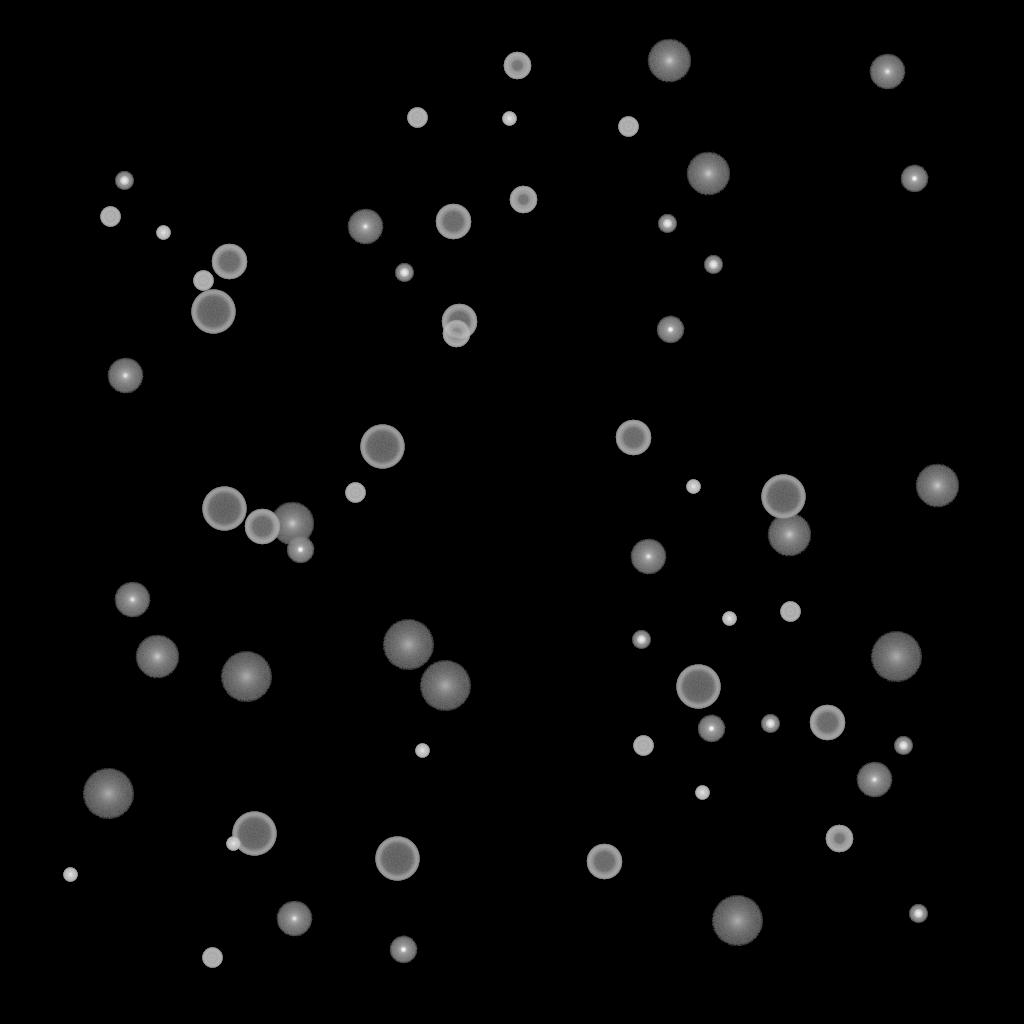depth:-10: (697, 715, 725, 743), (389, 936, 417, 964), (286, 536, 314, 564), (656, 316, 684, 344), (900, 165, 928, 193)
depth:-20: (704, 256, 722, 274), (115, 172, 133, 190), (395, 264, 413, 282), (632, 631, 650, 649), (761, 715, 779, 733), (658, 215, 676, 233), (894, 737, 912, 755), (909, 905, 927, 923)
depth:-30: (156, 226, 170, 240), (695, 786, 709, 800), (63, 868, 77, 882), (722, 612, 736, 626), (226, 837, 240, 851), (686, 480, 700, 494), (415, 744, 429, 758), (502, 112, 516, 126)
depth:-40: (407, 108, 427, 128), (202, 948, 222, 968), (633, 736, 653, 756), (618, 117, 638, 137), (100, 207, 120, 227), (345, 483, 365, 503), (193, 271, 213, 291), (780, 602, 800, 622)
depth:-50: (509, 186, 537, 214), (503, 52, 531, 80), (825, 825, 853, 853), (442, 320, 470, 348)
depth:-60: (441, 304, 477, 340), (615, 420, 651, 456), (809, 705, 845, 741), (244, 509, 280, 545), (586, 844, 622, 880), (211, 244, 247, 280), (435, 204, 471, 240)
depth:-70: (191, 290, 235, 334), (202, 487, 246, 531), (360, 425, 404, 469), (232, 812, 276, 856), (375, 837, 419, 881), (676, 665, 720, 709), (761, 475, 805, 519)
depth:0: (347, 209, 383, 245), (114, 582, 150, 618), (107, 358, 143, 394), (630, 539, 666, 575), (869, 54, 905, 90), (276, 901, 312, 937), (856, 762, 892, 798)
depth:10: (767, 513, 811, 557), (686, 152, 730, 196), (915, 464, 959, 508), (270, 502, 314, 546), (647, 39, 691, 83), (135, 635, 179, 679)
depth:20: (220, 652, 272, 702), (82, 769, 134, 819), (711, 896, 763, 946), (870, 632, 922, 682), (382, 620, 434, 670), (419, 661, 471, 711)
